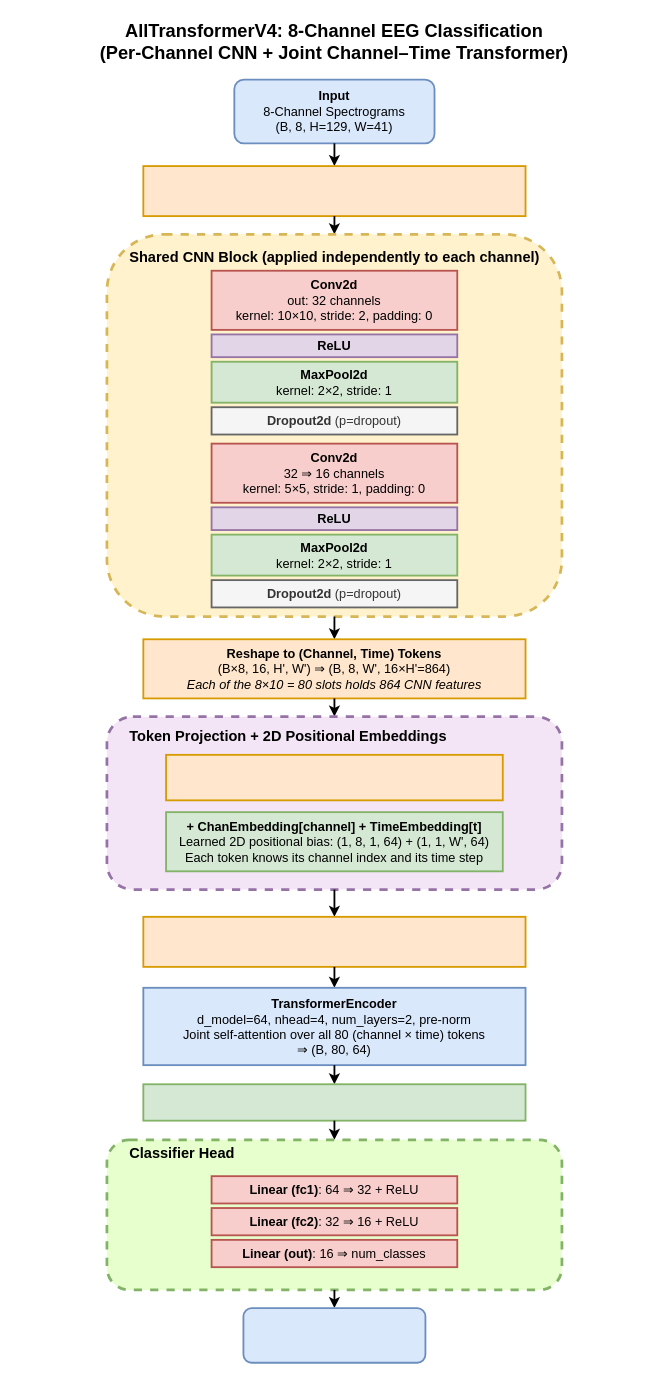
Some shapes in this 668 by 1379 pixel diagram are drawn without their labels. The centre of each missing label's shape, as x and y in pixels:
"Flatten Token Grid + Dropout (B, 8, W'=10, 64) ⇒ (B, 80, 64)" belongs at point (334, 941).
"Mean Pooling over all 80 tokens ⇒ (B, 64)" belongs at point (334, 1102).
"Output Logits (B, num_classes)" belongs at point (334, 1335).
"Reshape for Per-Channel Processing (B, 8, H, W) → (B×8, 1, H, W)" belongs at point (334, 191).
"Shared Linear (proj) (B, 8, W', 864) ⇒ (B, 8, W', d_model=64)" belongs at point (334, 777).
